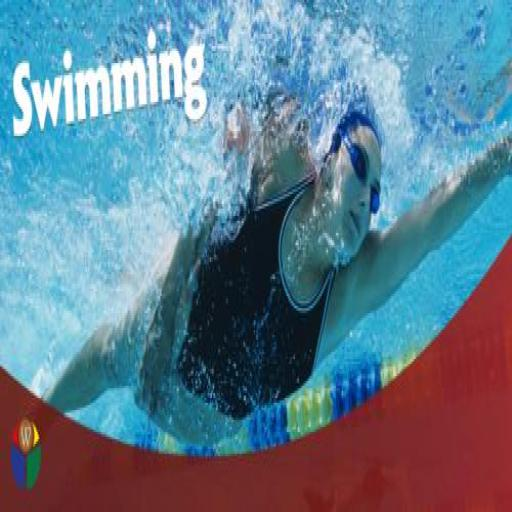swimming: (43, 82, 511, 454)
